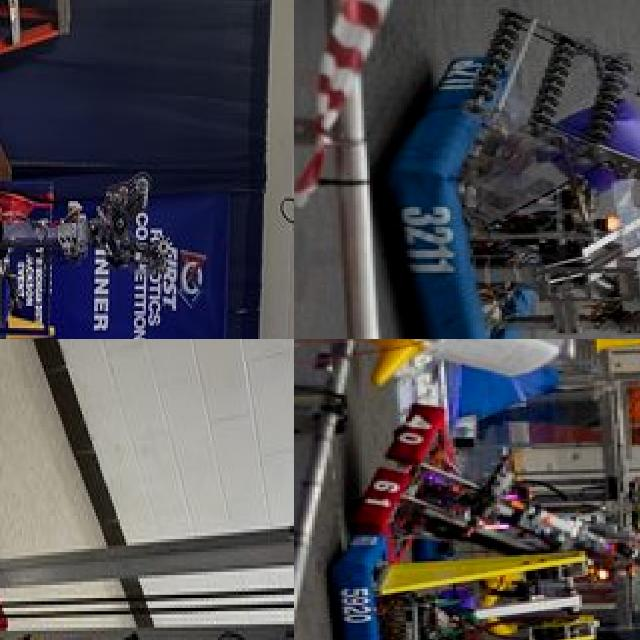FRC-Robots: (335, 0, 640, 339), (0, 339, 294, 640), (0, 65, 202, 339), (338, 415, 640, 533), (325, 554, 595, 640)
